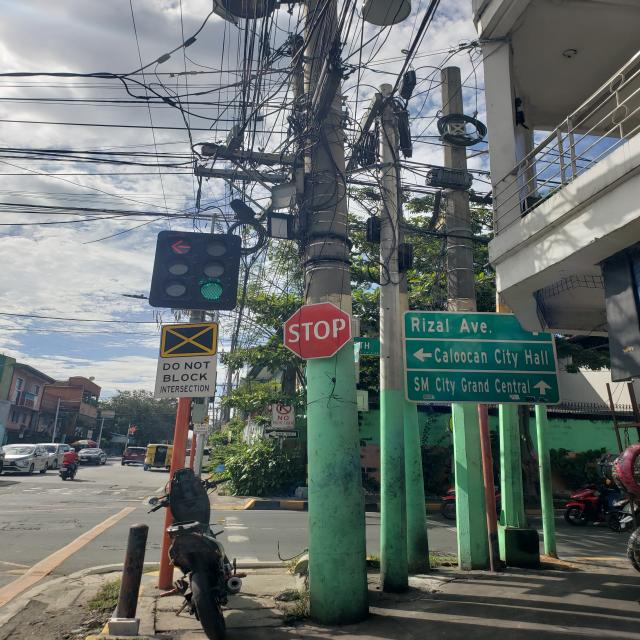stop-sign: (284, 301, 352, 360)
